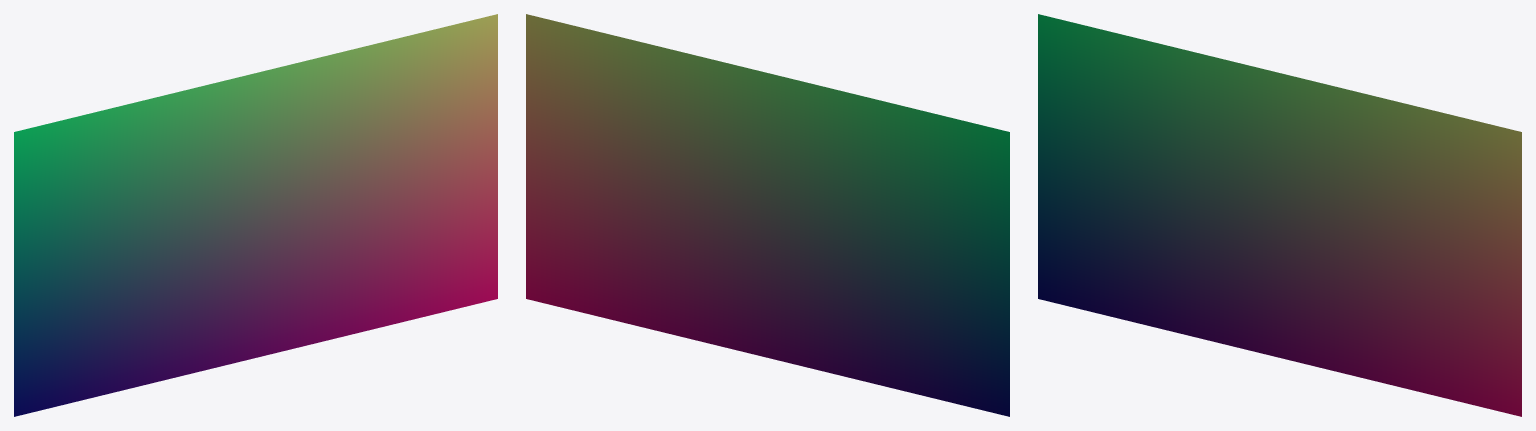
The model's file is vertex_animation_textures1_mesh.fbx.
3 views of the same model, side by side, from view 1: azimuth 30°, elevation 25°; view 2: azimuth 150°, elevation 25°; view 3: azimuth 330°, elevation 25° (orthographic).
Parts seen in each view (by area): view 1: MESH; view 2: MESH; view 3: MESH.
Part boxes in pixels (x1=…): MESH: x1=14, y1=14, x2=497, y2=416; MESH: x1=526, y1=14, x2=1009, y2=416; MESH: x1=1038, y1=14, x2=1521, y2=416.
Size of the model in its own units: 1600 by 900 by 0.
